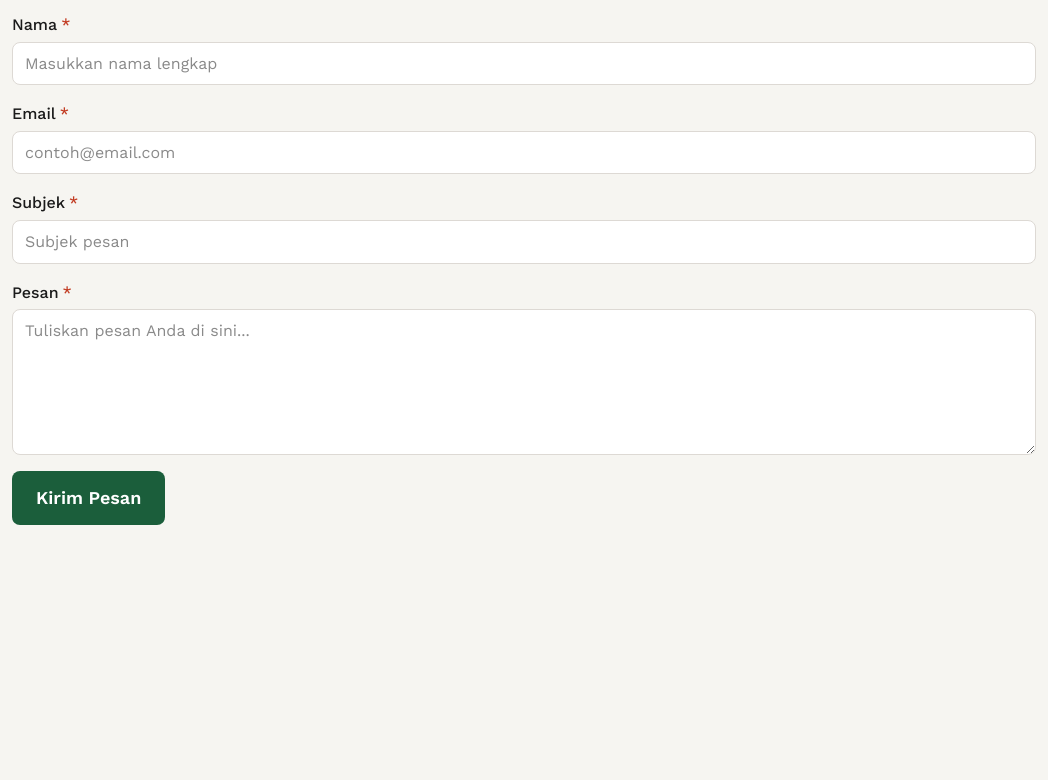
Test: ContactForm Component › shows success message after successful submit
This screenshot has width=1048, height=780.
Type "Ahmad" into the field labelled "Nama*" at [524, 63], box [12,42,1036,85]
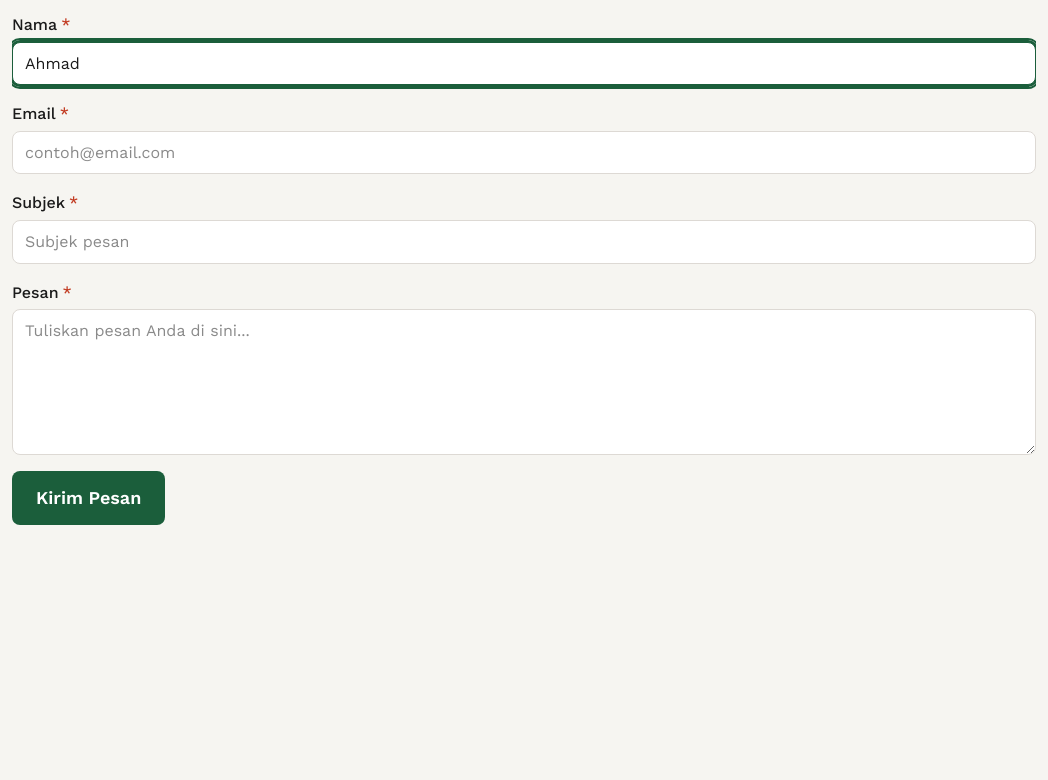
Type "ahmad@test.com" into the field labelled "Email*" at [524, 153], box [12,131,1036,174]
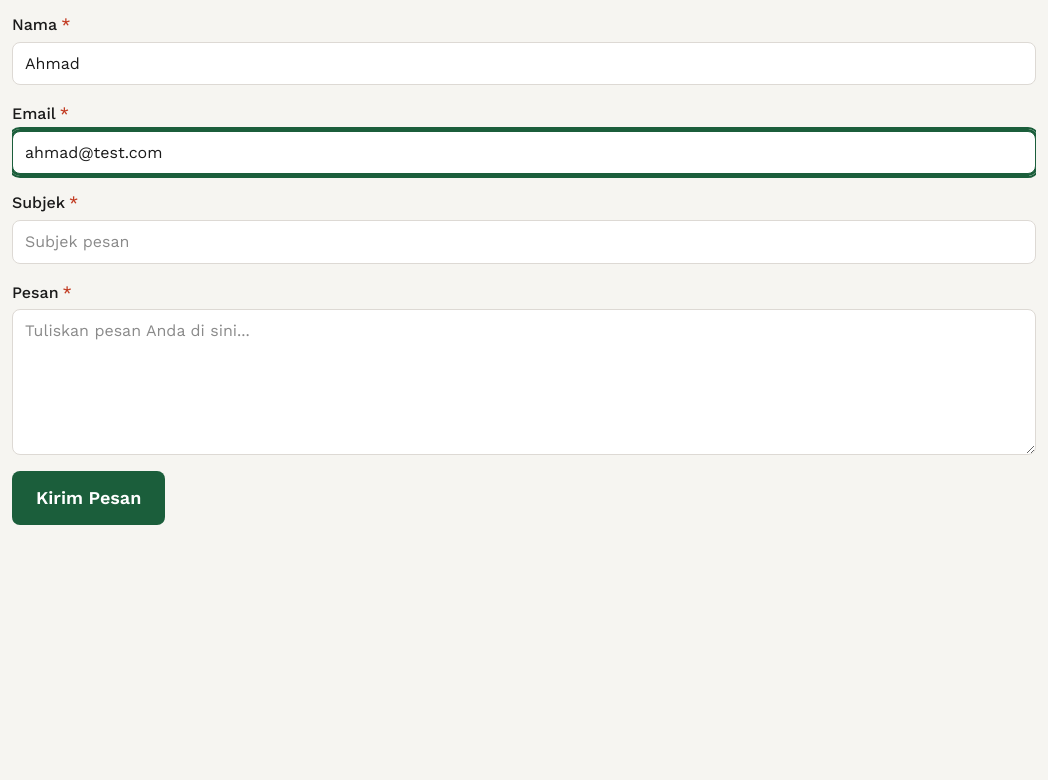
Type "Test Subject" into the field labelled "Subjek*" at [524, 242], box [12,220,1036,264]
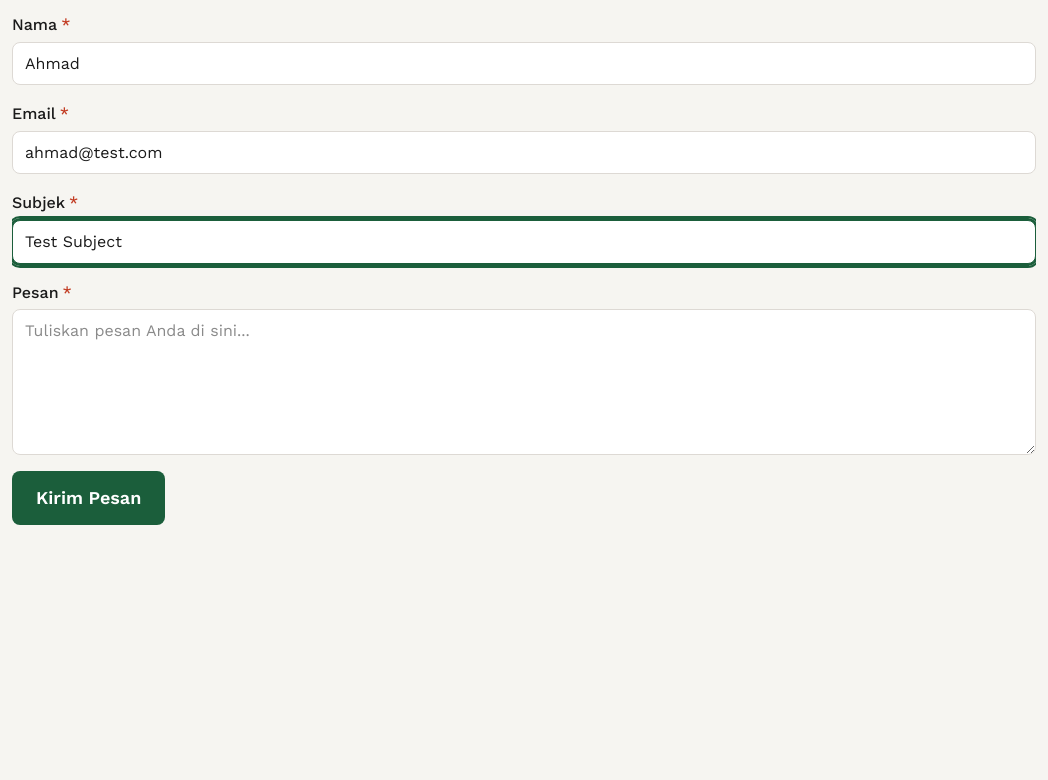
Type "Ini adalah pesan test yang cukup panjang" into the text box labelled "Pesan*" at [524, 382], box [12,309,1036,455]
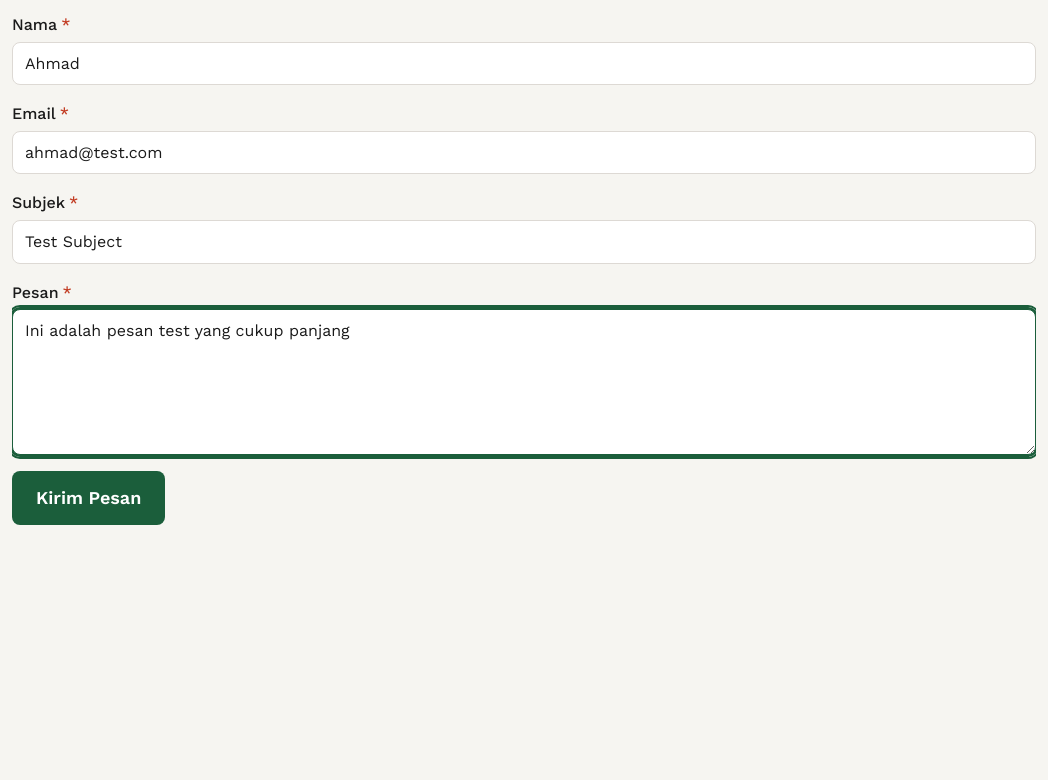
Click the button "Kirim Pesan" at [89, 498], box [12,471,165,525]
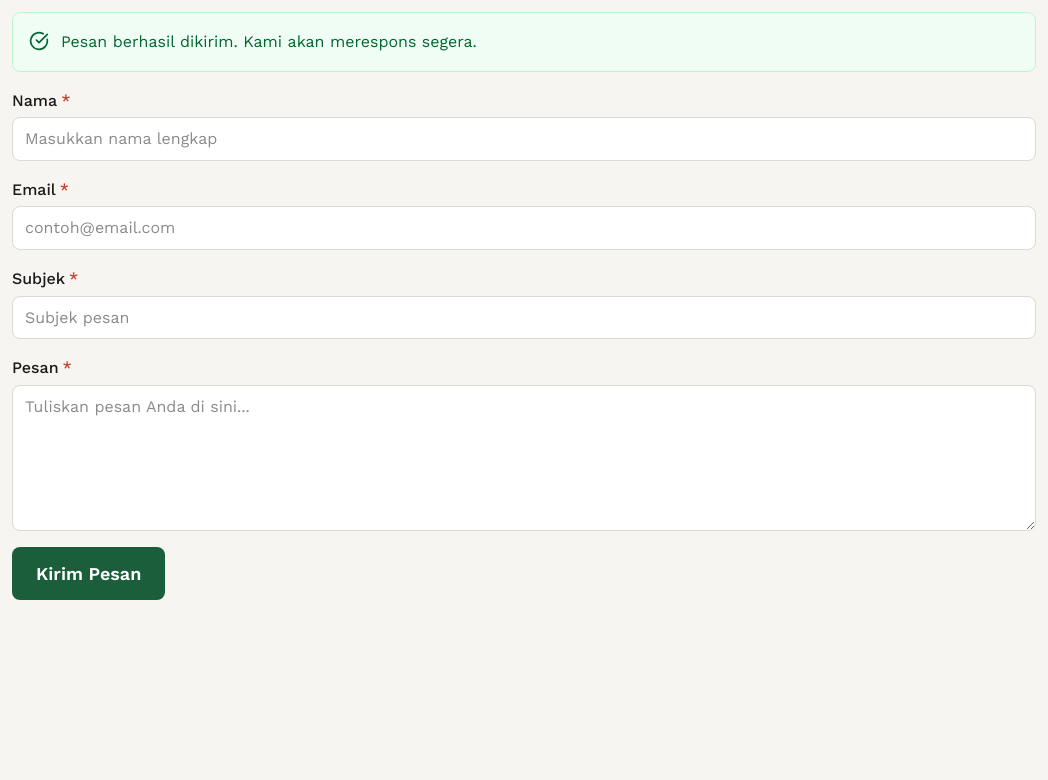
Check: the text "Pesan berhasil dikirim. Kami akan merespons segera." is shown, box [61,29,477,55]
